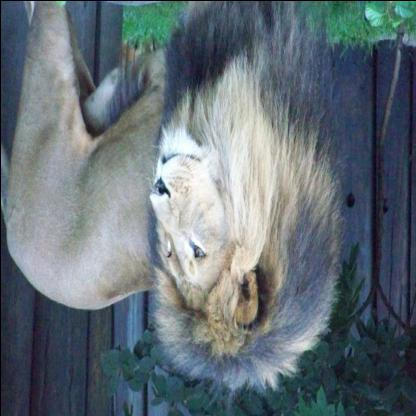lion: (138, 116, 286, 367)
